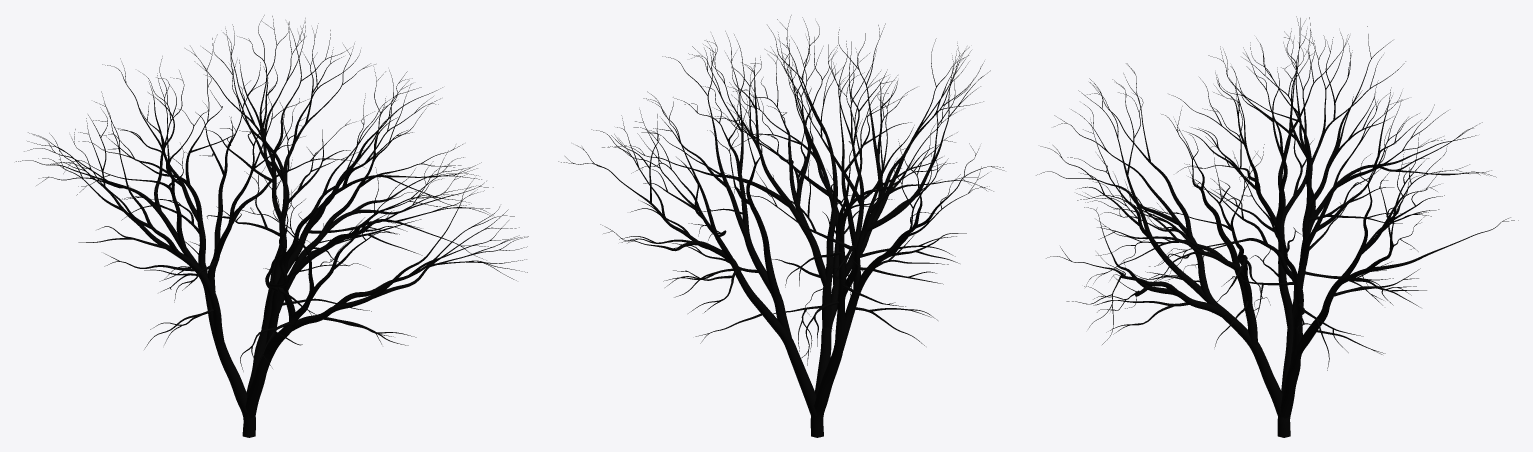
The model's file is Boom4.fbx.
3 views of the same model, side by side, from view 1: azimuth 30°, elevation 25°; view 2: azimuth 150°, elevation 25°; view 3: azimuth 270°, elevation 25° (orthographic).
Visible parts, largest first — view 1: tree.011; view 2: tree.011; view 3: tree.011.
Boxes of the visible parts, x1,y1,x2,y2 form: tree.011: [16, 15, 528, 437]; tree.011: [558, 15, 1004, 437]; tree.011: [1036, 16, 1518, 437].
Bounding box in the file's own units: 966 × 872 × 1013.
